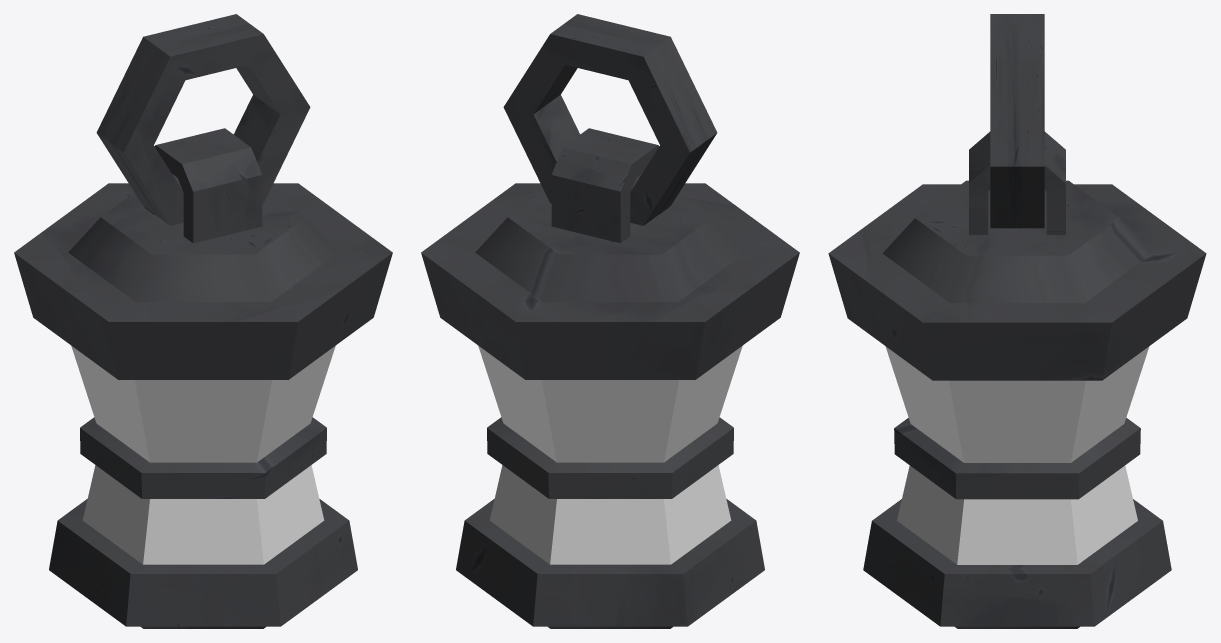
File: SM_PROP_lantern_03.fbx
The picture shows the model from 3 angles, left to right: view 1: azimuth 30°, elevation 25°; view 2: azimuth 150°, elevation 25°; view 3: azimuth 270°, elevation 25°; orthographic projection.
Parts seen in each view (by area): view 1: SM_PROP_lantern_03; view 2: SM_PROP_lantern_03; view 3: SM_PROP_lantern_03.
Part boxes in pixels (left/top/right/bottom): SM_PROP_lantern_03: left=14, top=14, right=392, bottom=628; SM_PROP_lantern_03: left=421, top=14, right=799, bottom=628; SM_PROP_lantern_03: left=828, top=14, right=1206, bottom=628.
Size of the model in its own units: 50.77 by 93.83 by 58.63.
